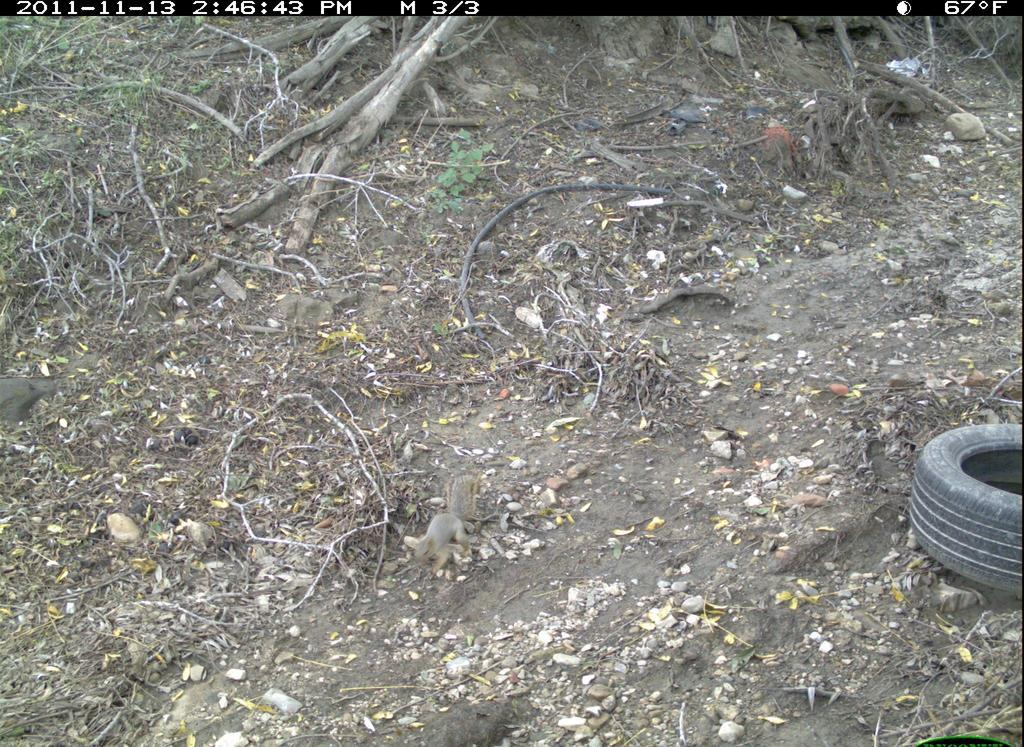squirrel: (387, 470, 510, 592)
